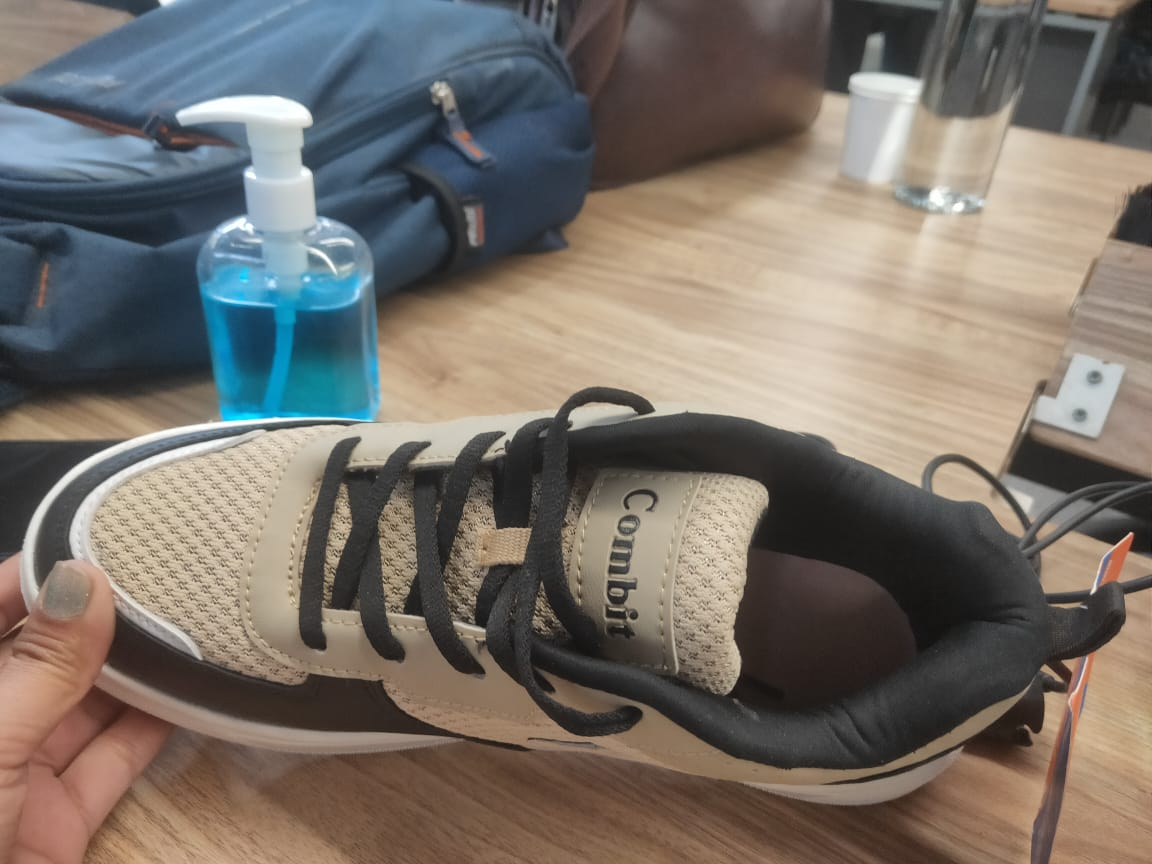Footwear: (16, 380, 1056, 814)
